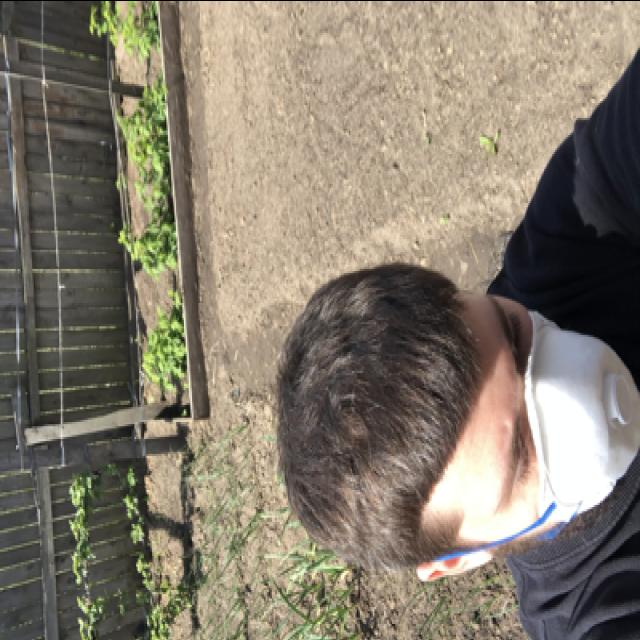mask: (468, 294, 638, 540)
